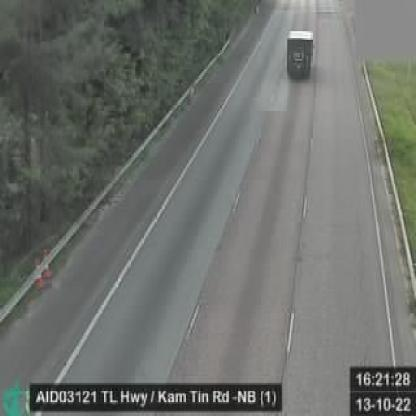Truck: (288, 27, 313, 79)
